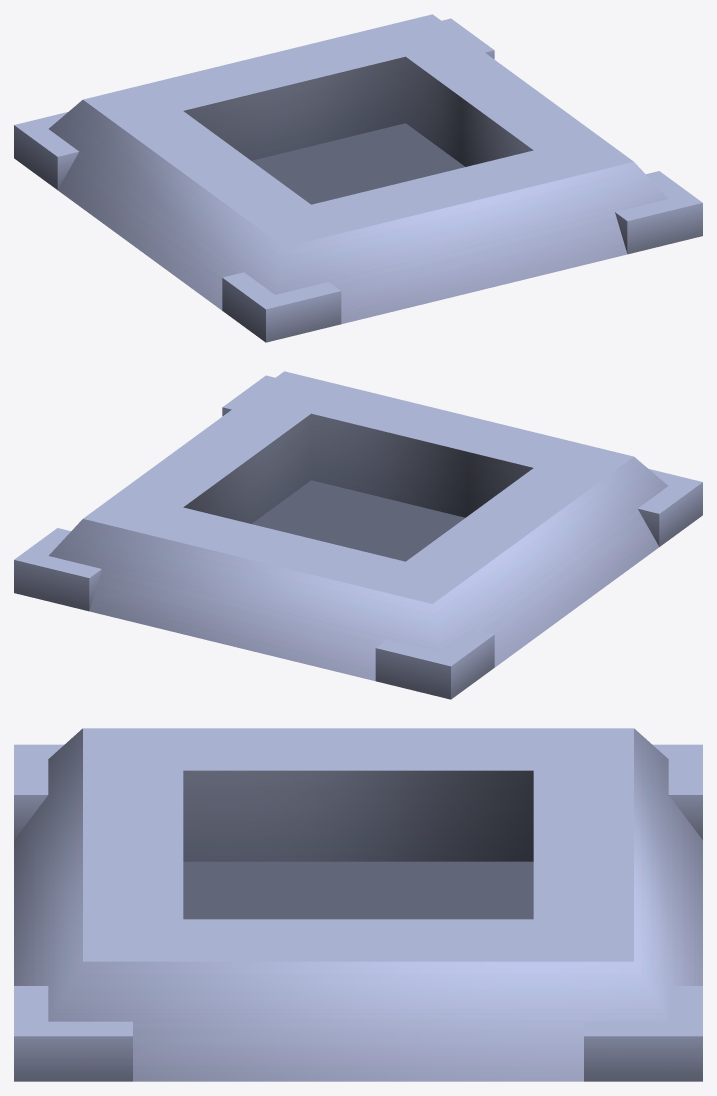
The model's file is kenney-tower-defense-spawn-square.glb.
3 renders of one model, top to bottom at view 1: azimuth 30°, elevation 25°; view 2: azimuth 150°, elevation 25°; view 3: azimuth 270°, elevation 25°, orthographic. The views are drawn at different scales.
Parts seen in each view (by area): view 1: spawn-square; view 2: spawn-square; view 3: spawn-square.
Boxes of the visible parts, x1,y1,x2,y2 form: spawn-square: [14, 14, 702, 342]; spawn-square: [14, 371, 702, 699]; spawn-square: [14, 728, 702, 1081].
Bounding box in the file's own units: 0.6875 × 0.1 × 0.6862.
Materials: 1 (1 with a texture image).
